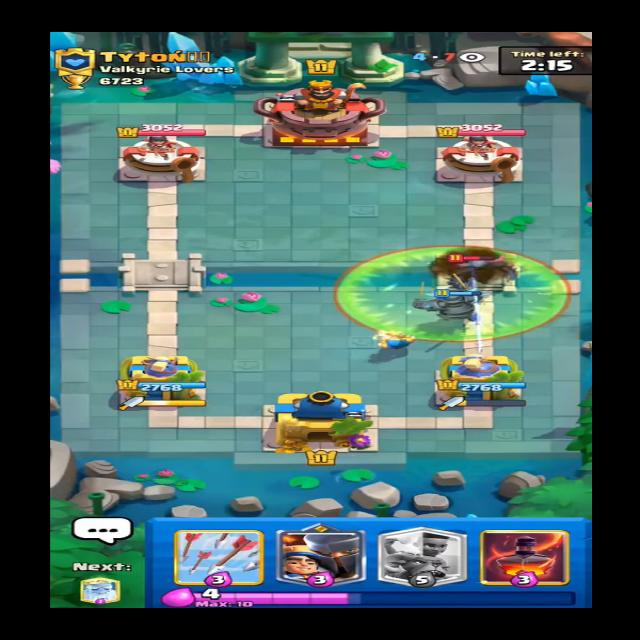goblin-curse: (335, 249, 571, 342)
pekka: (440, 250, 521, 290)
